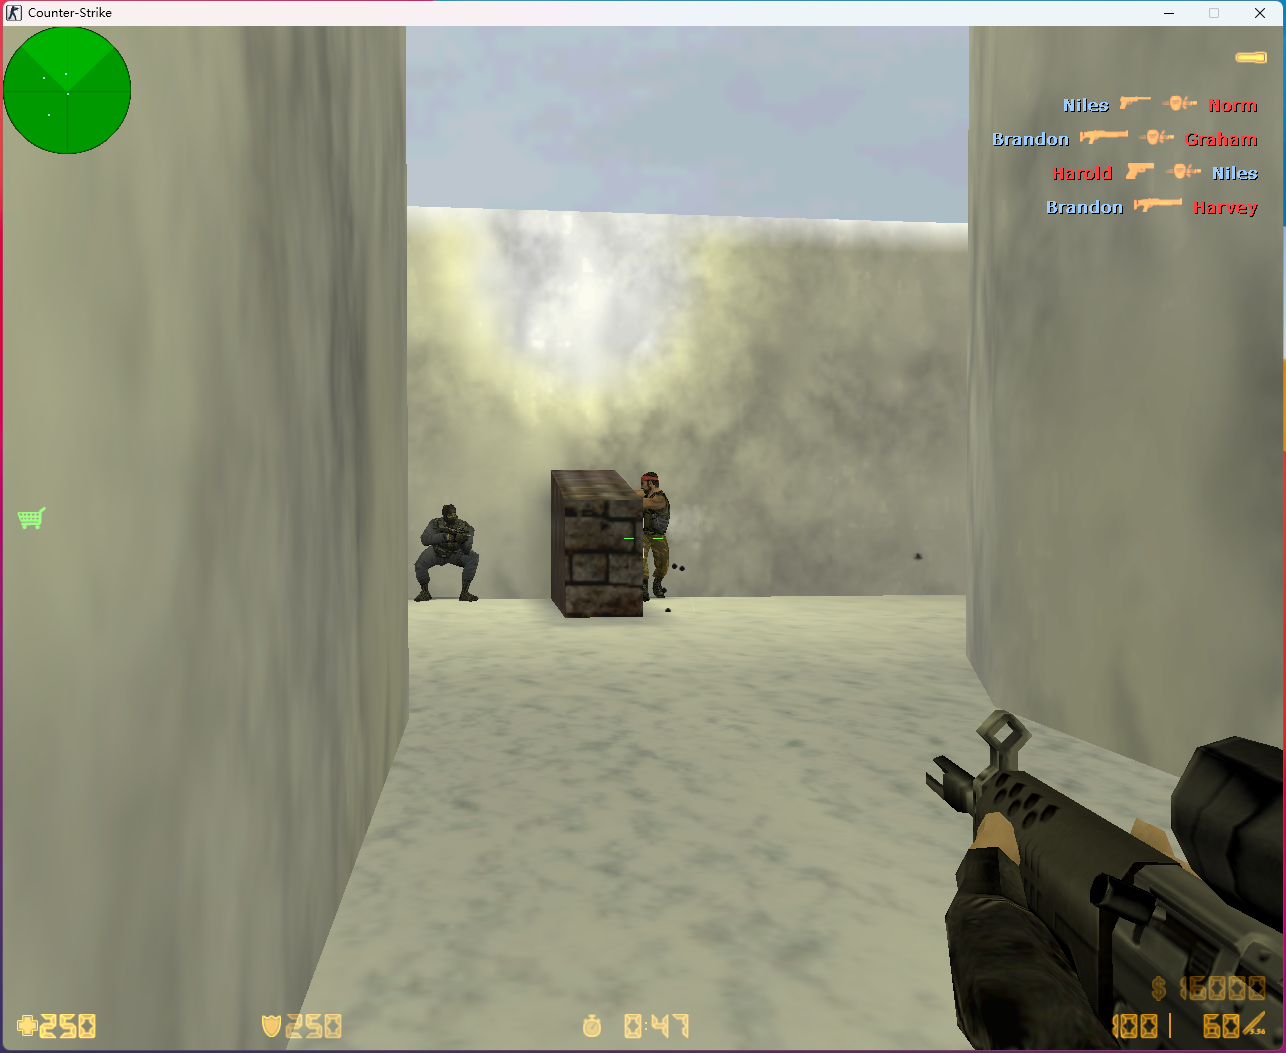C: (414, 505, 479, 601)
T: (630, 470, 671, 600)
